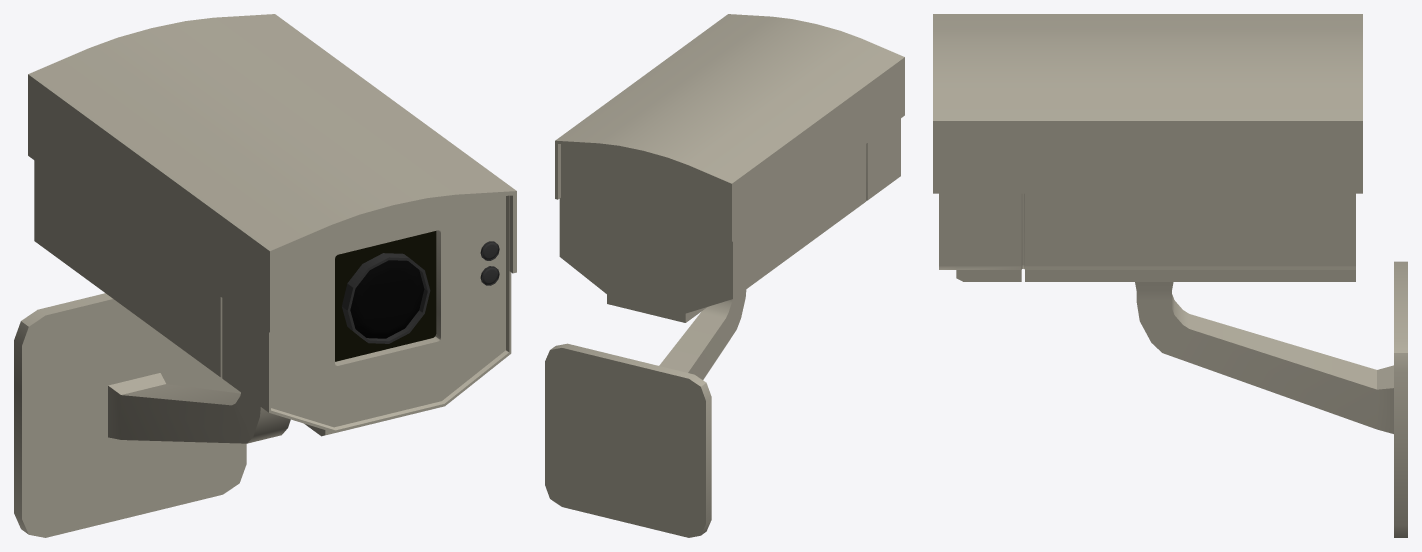
The model's file is camera.fbx.
3 renders of one model, left to right at view 1: azimuth 30°, elevation 25°; view 2: azimuth 150°, elevation 25°; view 3: azimuth 270°, elevation 25°, orthographic. The views are drawn at different scales.
Parts seen in each view (by area): view 1: CamRot, CamBase; view 2: CamRot, CamBase; view 3: CamRot, CamBase.
Boxes of the visible parts, bbox=[...] form: CamRot: bbox=[28, 14, 516, 436]; CamBase: bbox=[14, 293, 290, 537]; CamRot: bbox=[555, 14, 904, 322]; CamBase: bbox=[545, 289, 746, 537]; CamRot: bbox=[933, 14, 1362, 281]; CamBase: bbox=[1135, 261, 1407, 537].
Size of the model in its own units: 26.96 by 52.25 by 50.5.
